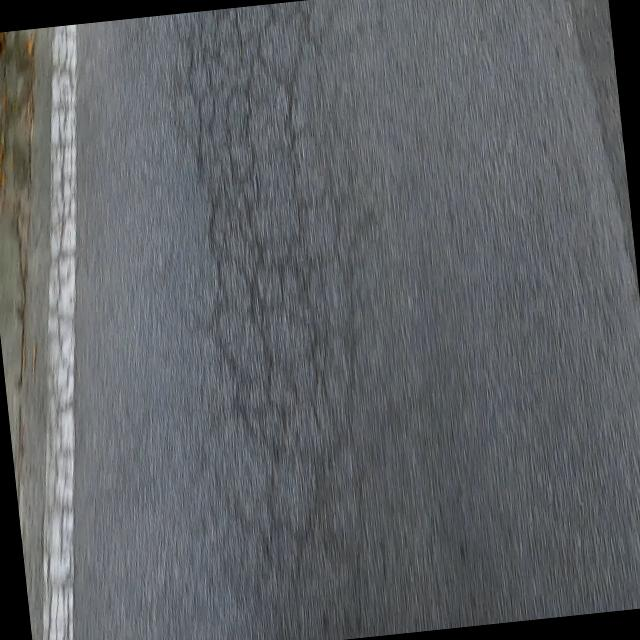Retak-Buaya: (184, 8, 363, 640)
